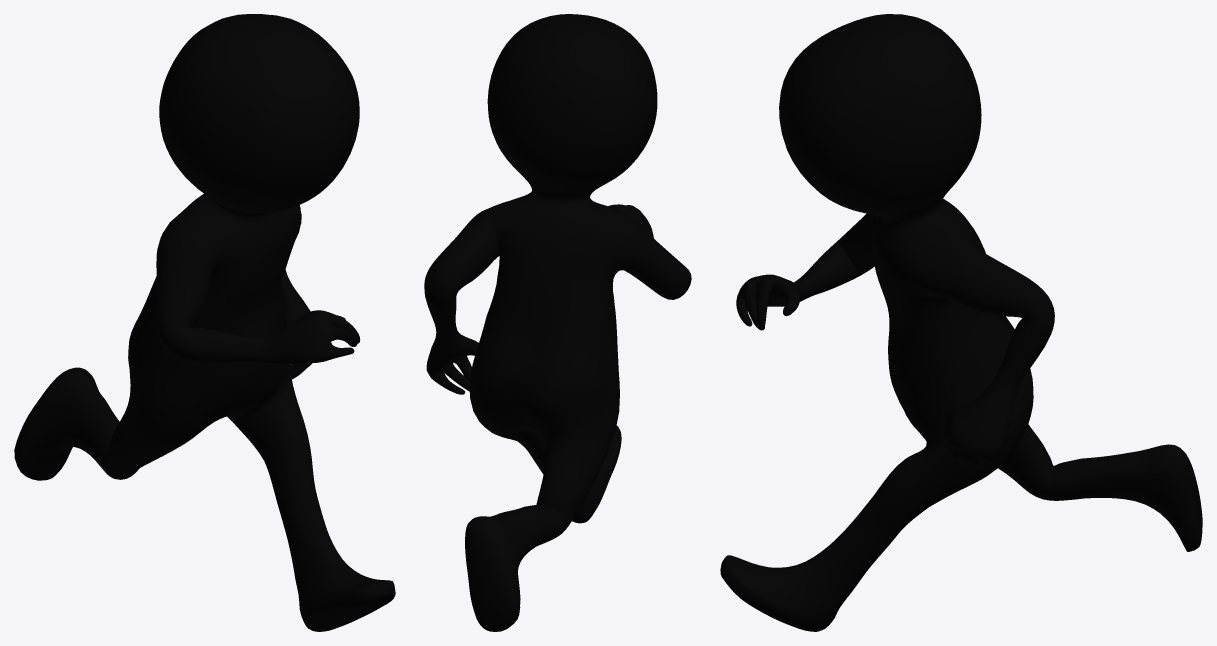
Rendered from sport.glb.
3 renders of one model, left to right at view 1: azimuth 30°, elevation 25°; view 2: azimuth 150°, elevation 25°; view 3: azimuth 270°, elevation 25°, orthographic. The views are drawn at different scales.
Visible parts, largest first — view 1: node_id6; view 2: node_id6; view 3: node_id6.
Part boxes in pixels (x1,y1,x2,y2): node_id6: [14, 14, 395, 631]; node_id6: [424, 14, 691, 631]; node_id6: [720, 14, 1202, 631].
Bounding box in the file's own units: 0.1745 × 0.4422 × 0.3266.
Materials: 1 (1 with a texture image).
